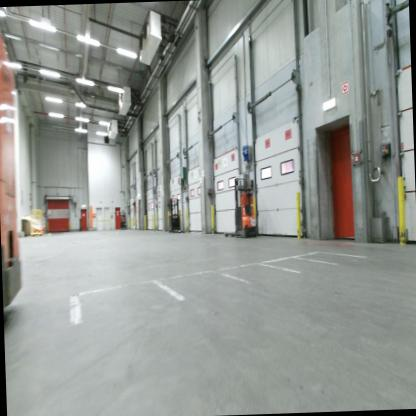pallet_truck: (0, 11, 27, 313), (212, 173, 259, 242), (164, 194, 187, 235), (116, 208, 127, 233)
